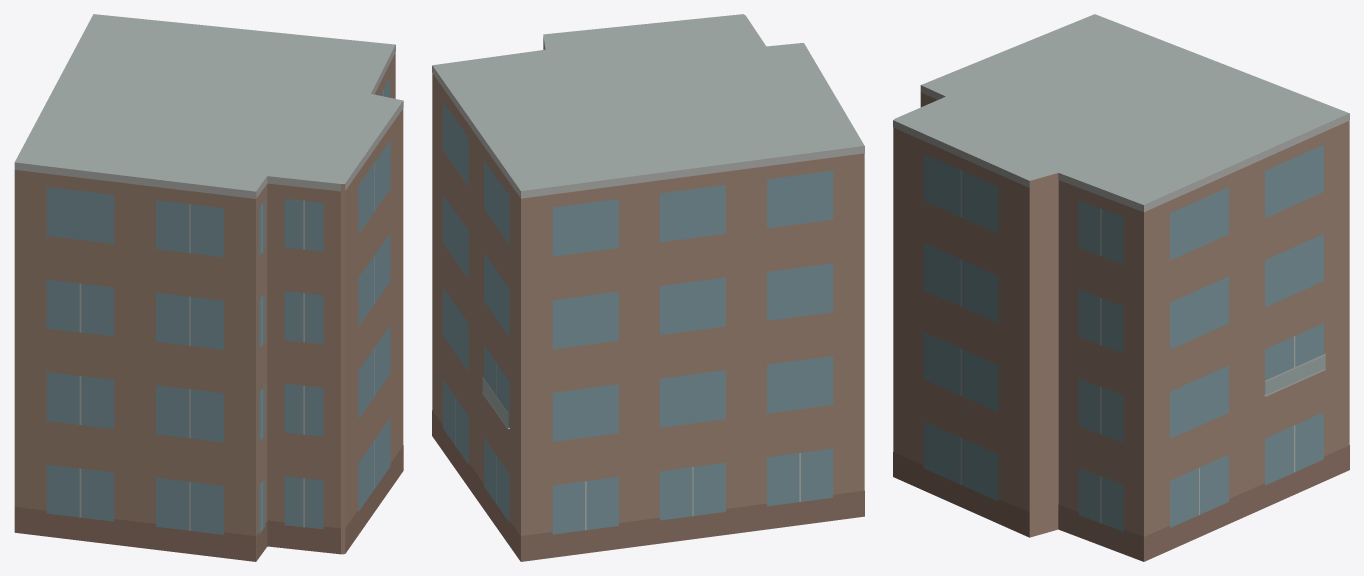
The model's file is survey-upis-32615138.glb.
3 views of the same model, side by side, from view 1: azimuth 30°, elevation 25°; view 2: azimuth 150°, elevation 25°; view 3: azimuth 270°, elevation 25° (orthographic). The views are drawn at different scales.
Visible parts, largest first — view 1: survey-upis-32615138.tmp; view 2: survey-upis-32615138.tmp; view 3: survey-upis-32615138.tmp.
Boxes of the visible parts, x1,y1,x2,y2 form: survey-upis-32615138.tmp: (14,14,403,561); survey-upis-32615138.tmp: (432,14,864,561); survey-upis-32615138.tmp: (893,14,1349,561).
Bounding box in the file's own units: 14.03 × 12.2 × 14.16.
